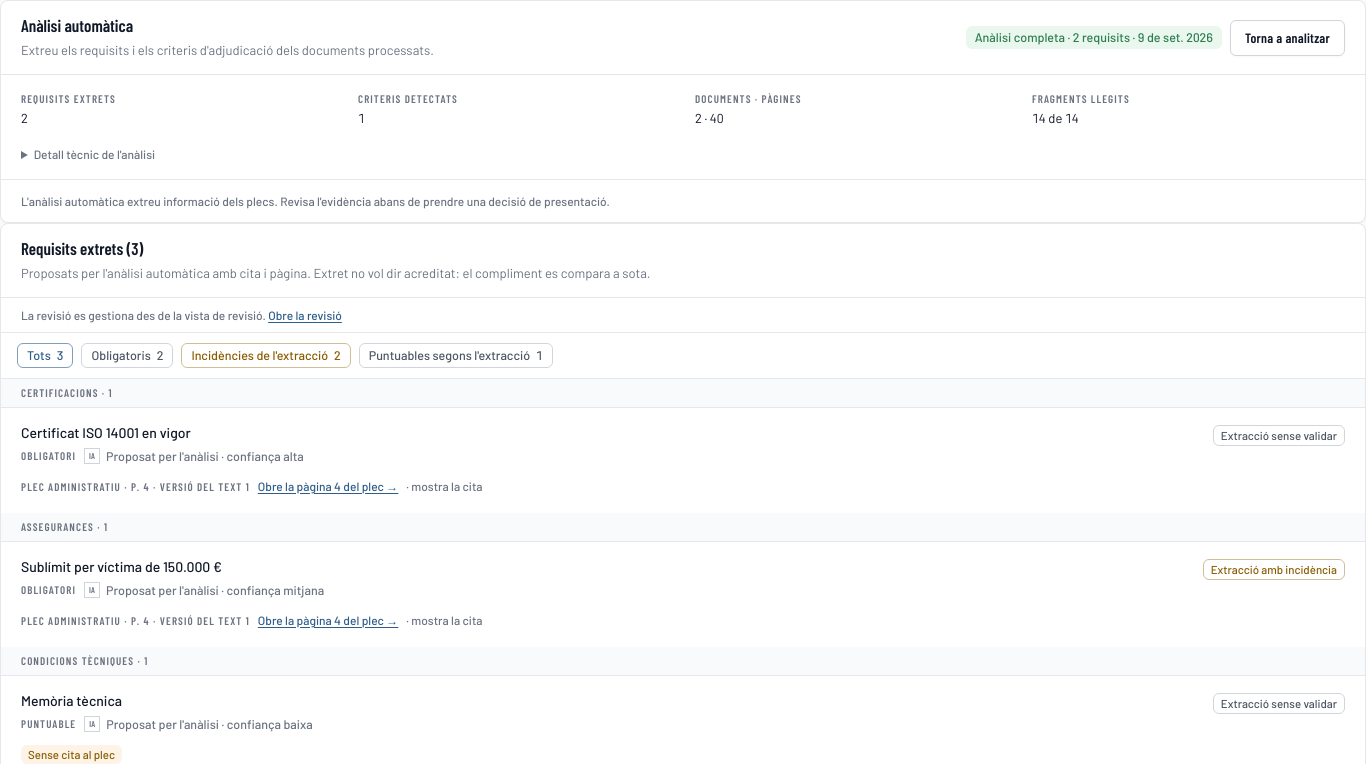
Test: RequirementAnalysisSection › amb una anàlisi feta: es diu que és una anàlisi nova i que la revisió no canvia
Click the button "Torna a analitzar" at [1288, 38], box [1230, 20, 1345, 56]
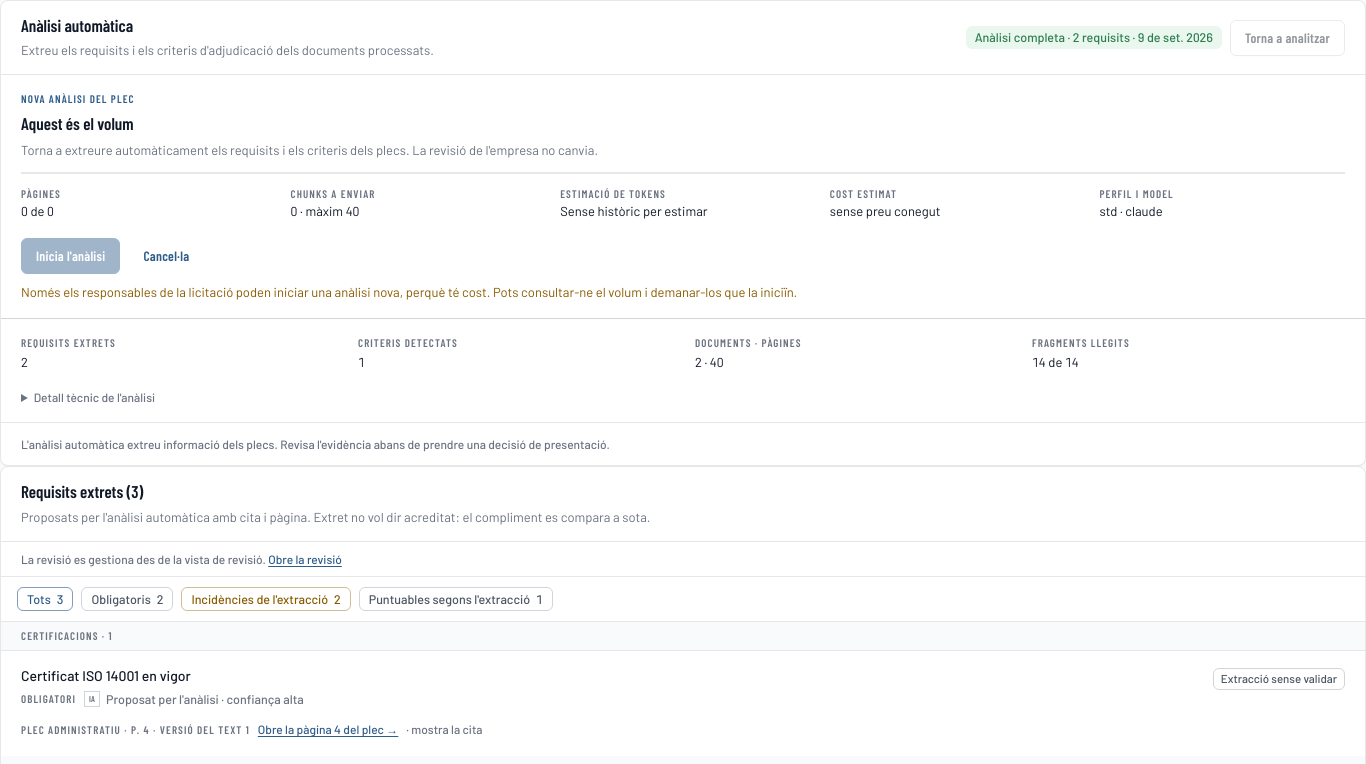
Expected: the text "Nova anàlisi del plec" is shown, [21, 92, 135, 105]
Expected: the button "Inicia l'anàlisi" is disabled, [21, 238, 120, 274]
